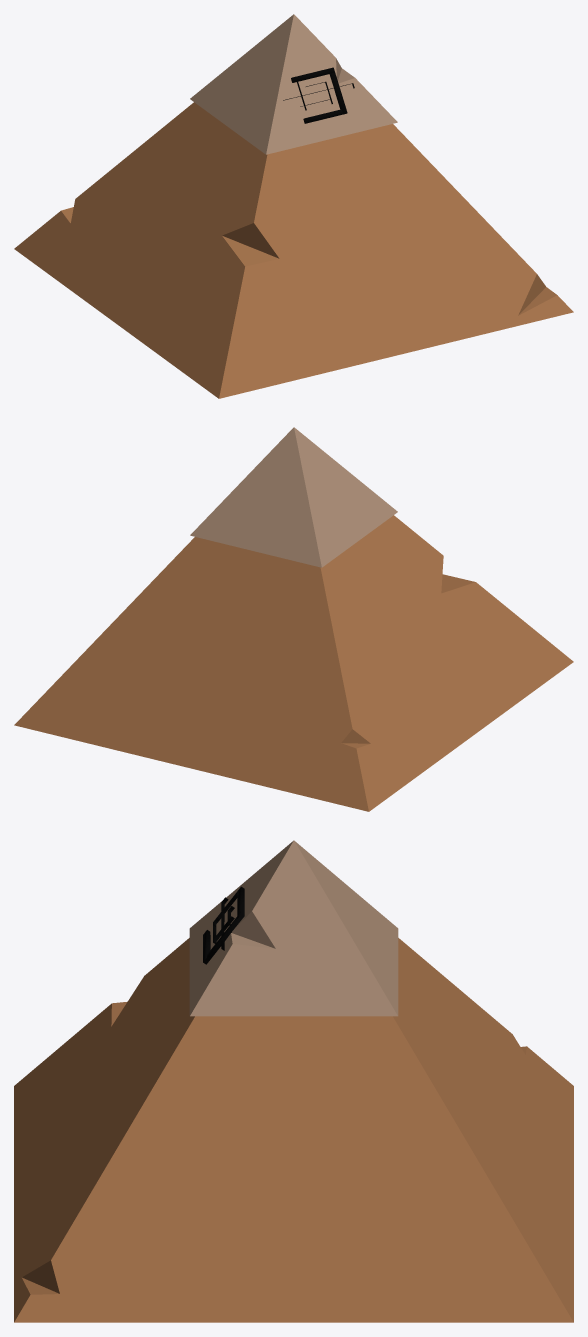
3 renders of one model, top to bottom at view 1: azimuth 30°, elevation 25°; view 2: azimuth 150°, elevation 25°; view 3: azimuth 270°, elevation 25°, orthographic. The views are drawn at different scales.
Visible parts, largest first — view 1: Cone; view 2: Cone; view 3: Cone.
Part boxes in pixels (x1,y1,x2,y2): Cone: (14,14,573,398); Cone: (14,427,573,811); Cone: (14,840,573,1322).
Size of the model in its own units: 18.38 by 13.19 by 18.38.
